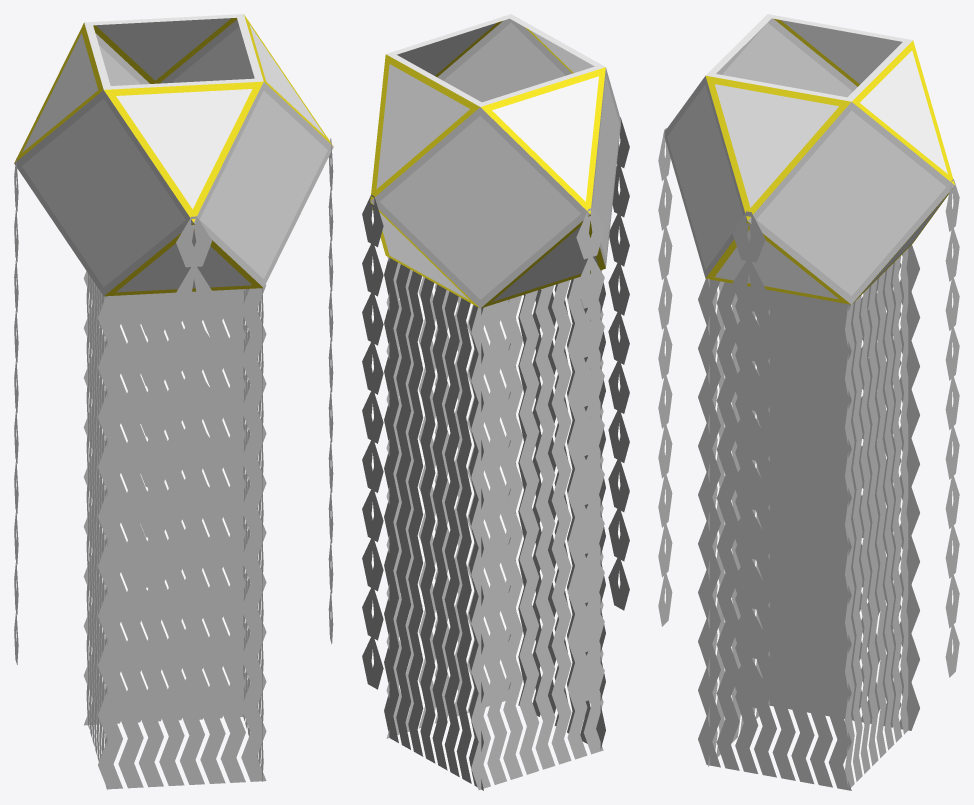
3 renders of one model, left to right at view 1: azimuth 30°, elevation 25°; view 2: azimuth 150°, elevation 25°; view 3: azimuth 270°, elevation 25°, orthographic. The views are drawn at different scales.
Visible parts, largest first — view 1: Cube, Plane.018, Plane.023, Plane.019, Plane.017, Plane.024, Plane.020, Plane.022, Plane.036, Plane.035, Plane.008, Plane.021 (+18 smaller); view 2: Cube, Plane.026, Plane.028, Plane.029, Plane.027, Plane.030, Plane.025, Plane.031, Plane.007, Plane.003, Plane.004, Plane.002 (+25 smaller); view 3: Cube, Plane.015, Plane.013, Plane.014, Plane.009, Plane.016, Plane.010, Plane.012, Plane.040, Plane.039, Plane.025, Plane.007 (+22 smaller).
Boxes of the visible parts, x1,y1,x2,y2 form: Cube: [14, 14, 333, 296]; Plane.018: [118, 294, 143, 788]; Plane.023: [220, 289, 245, 782]; Plane.019: [138, 293, 163, 787]; Plane.017: [98, 295, 122, 789]; Plane.024: [241, 284, 266, 781]; Plane.020: [159, 292, 184, 785]; Plane.022: [200, 290, 225, 783]; Plane.036: [193, 216, 212, 719]; Plane.035: [176, 216, 194, 720]; Plane.008: [83, 271, 104, 725]; Plane.021: [180, 291, 204, 784]; Cube: [370, 14, 620, 308]; Plane.026: [487, 300, 506, 784]; Plane.028: [519, 290, 539, 774]; Plane.029: [535, 285, 555, 769]; Plane.027: [503, 295, 522, 779]; Plane.030: [551, 280, 571, 764]; Plane.025: [471, 305, 490, 789]; Plane.031: [567, 277, 587, 759]; Plane.007: [456, 298, 471, 783]; Plane.003: [408, 271, 423, 756]; Plane.004: [420, 278, 435, 763]; Plane.002: [396, 264, 411, 749]; Cube: [664, 14, 954, 304]; Plane.015: [810, 299, 832, 787]; Plane.013: [772, 292, 795, 780]; Plane.014: [791, 295, 814, 783]; Plane.009: [698, 279, 720, 767]; Plane.016: [828, 302, 851, 790]; Plane.010: [716, 282, 739, 770]; Plane.012: [754, 289, 776, 777]; Plane.040: [732, 211, 755, 707]; Plane.039: [742, 211, 765, 708]; Plane.025: [899, 245, 920, 730]; Plane.007: [892, 255, 902, 742].
Bounding box in the file's own units: 2.7 × 6.79 × 2.69.
